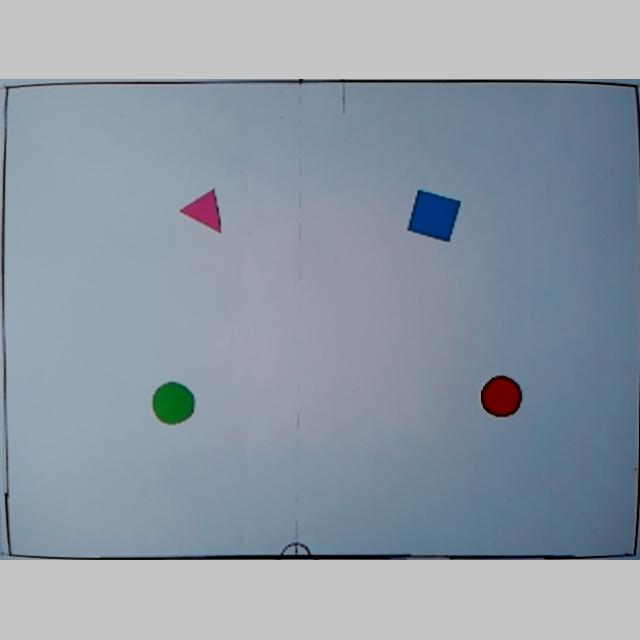blueSquare: (408, 188, 460, 244)
greenCircle: (151, 382, 195, 430)
pinkTriangle: (179, 189, 223, 237)
redCircle: (480, 374, 524, 421)
